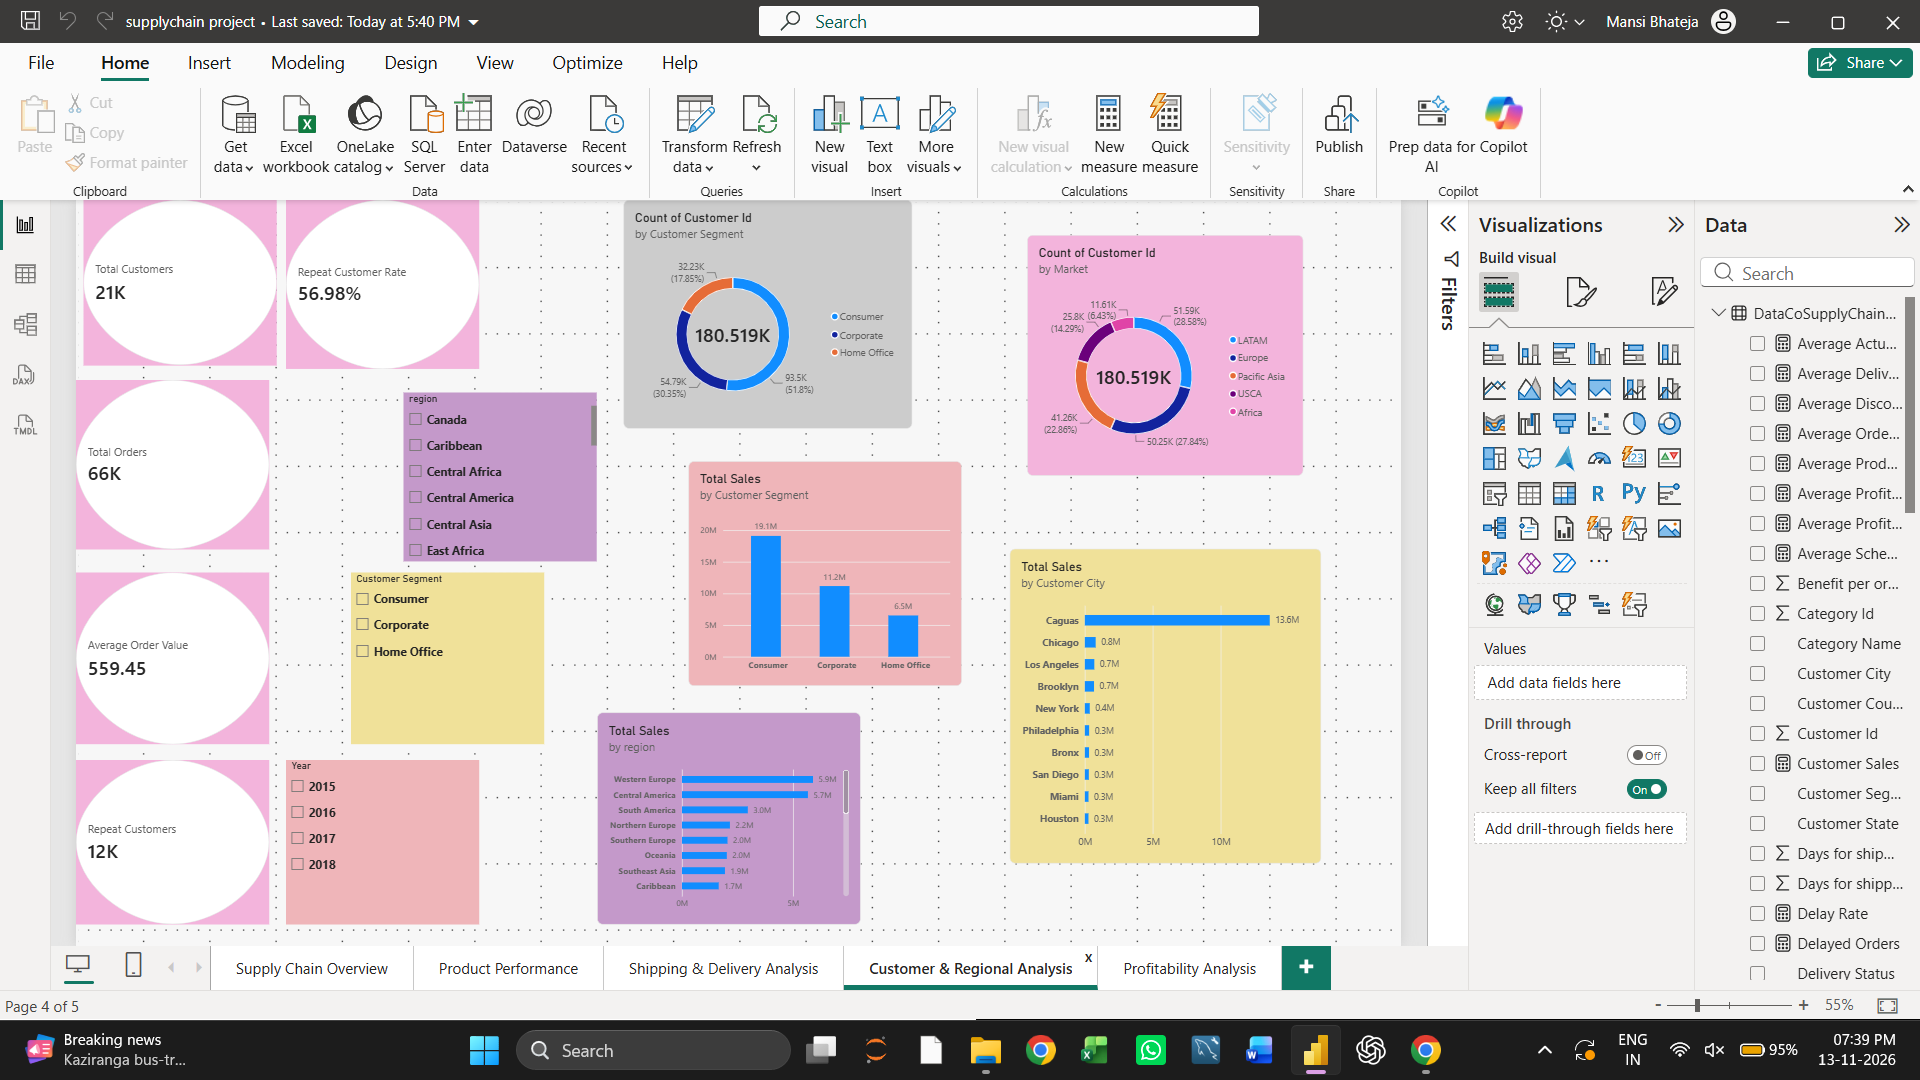

This screenshot's page, from the dashboard's own definition file:
{"tool":"powerbi","page":{"name":"Customer & Regional Analysis","canvas":[1920,1080],"ordinal":3},"visuals":[{"type":"cardVisual","fields":{"Data":["DataCoSupplyChainDataset.Total Customers"]},"box":[10.9,0,280,240],"z":0},{"type":"cardVisual","fields":{"Data":["DataCoSupplyChainDataset.Total Orders"]},"box":[0,260,280,245.5],"z":1},{"type":"cardVisual","fields":{"Data":["DataCoSupplyChainDataset.Average Order Value"]},"box":[0,540,280,249.1],"z":2},{"type":"cardVisual","fields":{"Data":["DataCoSupplyChainDataset.Repeat Customers"]},"box":[0,810.9,280,238.2],"z":3},{"type":"cardVisual","fields":{"Data":["DataCoSupplyChainDataset.Repeat Customer Rate"]},"box":[303.6,0,280,245],"z":4},{"type":"donutChart","fields":{"Category":["DataCoSupplyChainDataset.Customer Segment"],"Y":["CountNonNull(DataCoSupplyChainDataset.Customer Id)"]},"box":[792.7,0,418.2,330.9],"z":5},{"type":"clusteredBarChart","fields":{"Category":["DataCoSupplyChainDataset.region"],"Y":["DataCoSupplyChainDataset.Total Sales"]},"box":[754.5,741.8,381.8,307.3],"z":6},{"type":"donutChart","fields":{"Category":["DataCoSupplyChainDataset.Market"],"Y":["CountNonNull(DataCoSupplyChainDataset.Customer Id)"]},"box":[1378.2,50.9,400,349.1],"z":7},{"type":"clusteredBarChart","fields":{"Category":["DataCoSupplyChainDataset.Customer City"],"Y":["DataCoSupplyChainDataset.Total Sales"]},"box":[1352.7,505.5,450.9,456.4],"z":8},{"type":"clusteredColumnChart","fields":{"Category":["DataCoSupplyChainDataset.Customer Segment"],"Y":["DataCoSupplyChainDataset.Total Sales"]},"box":[887.3,378.2,396.4,325.5],"z":9},{"type":"slicer","fields":{"Values":["DataCoSupplyChainDataset.region"]},"box":[474.5,278.2,280,245],"z":10},{"type":"slicer","fields":{"Values":["DataCoSupplyChainDataset.Customer Segment"]},"box":[398.2,540,280,249],"z":11},{"type":"slicer","fields":{"Values":["DataCoSupplyChainDataset.order date (DateOrders).Variation.Date Hierarchy.Year"]},"box":[304,811,280,238],"z":12}]}

Visuals, with their boxes on the page's 1920x1080 design canvas (x1, y1, x2, y2). These are canvas units, not pixel positions in the 1920x1080 screenshot, which may show the page scaled, cropped or inside an application window:
cardVisual - DataCoSupplyChainDataset.Total Customers: 11 0 291 240
cardVisual - DataCoSupplyChainDataset.Total Orders: 0 260 280 506
cardVisual - DataCoSupplyChainDataset.Average Order Value: 0 540 280 789
cardVisual - DataCoSupplyChainDataset.Repeat Customers: 0 811 280 1049
cardVisual - DataCoSupplyChainDataset.Repeat Customer Rate: 304 0 584 245
donutChart - DataCoSupplyChainDataset.Customer Segment x CountNonNull(DataCoSupplyChainDataset.Customer Id): 793 0 1211 331
clusteredBarChart - DataCoSupplyChainDataset.region x DataCoSupplyChainDataset.Total Sales: 754 742 1136 1049
donutChart - DataCoSupplyChainDataset.Market x CountNonNull(DataCoSupplyChainDataset.Customer Id): 1378 51 1778 400
clusteredBarChart - DataCoSupplyChainDataset.Customer City x DataCoSupplyChainDataset.Total Sales: 1353 506 1804 962
clusteredColumnChart - DataCoSupplyChainDataset.Customer Segment x DataCoSupplyChainDataset.Total Sales: 887 378 1284 704
slicer - DataCoSupplyChainDataset.region: 474 278 754 523
slicer - DataCoSupplyChainDataset.Customer Segment: 398 540 678 789
slicer - DataCoSupplyChainDataset.order date (DateOrders).Variation.Date Hierarchy.Year: 304 811 584 1049
